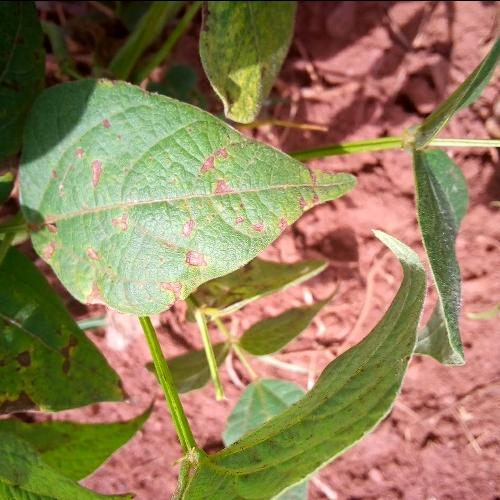hawar: (156, 208, 214, 303), (187, 136, 258, 197), (241, 213, 287, 246), (296, 177, 332, 216), (84, 150, 108, 195)
